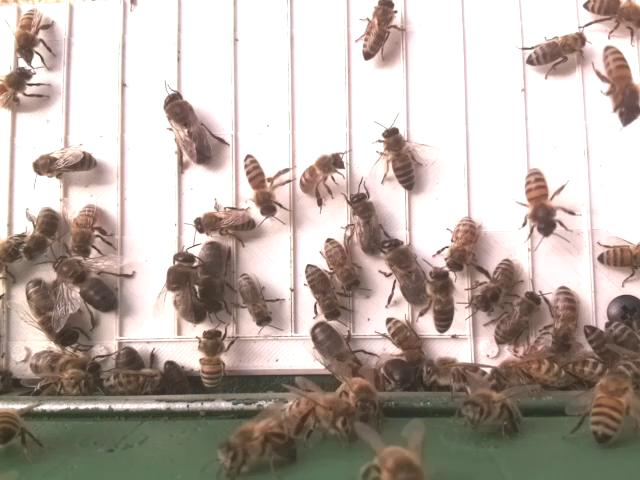Drone: (161, 87, 214, 170), (52, 253, 120, 315), (25, 277, 81, 348), (382, 235, 428, 310), (310, 319, 364, 380), (164, 250, 205, 327), (195, 241, 232, 315), (348, 188, 386, 259)
Worker: (600, 40, 640, 126), (520, 29, 590, 71), (468, 255, 516, 313), (493, 289, 538, 349), (522, 165, 560, 236), (378, 123, 416, 193), (233, 269, 273, 334), (30, 143, 102, 179), (241, 150, 279, 218), (302, 260, 341, 323), (296, 148, 348, 195), (322, 235, 362, 295), (358, 0, 396, 63), (18, 204, 58, 263), (442, 214, 480, 274), (69, 200, 106, 259), (194, 325, 227, 391), (548, 283, 578, 355), (190, 206, 257, 238), (13, 7, 49, 66), (386, 314, 423, 367), (430, 264, 457, 335), (592, 241, 640, 271)
